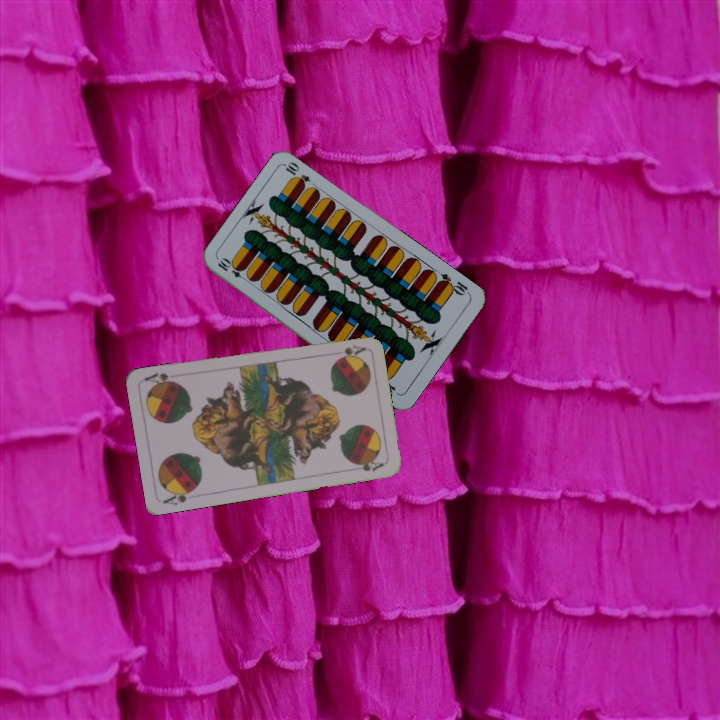E10: (434, 269, 473, 299), (214, 255, 251, 284)
SA: (160, 484, 199, 508), (340, 341, 367, 357)
